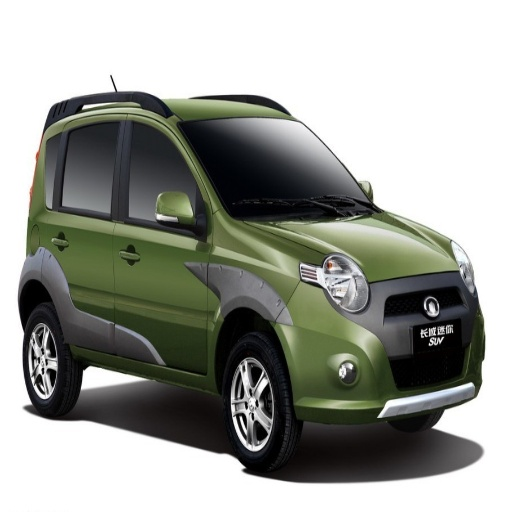front_bumper: (283, 269, 483, 423)
front_right_door: (115, 111, 209, 372)
front_right_light: (302, 255, 369, 314)
